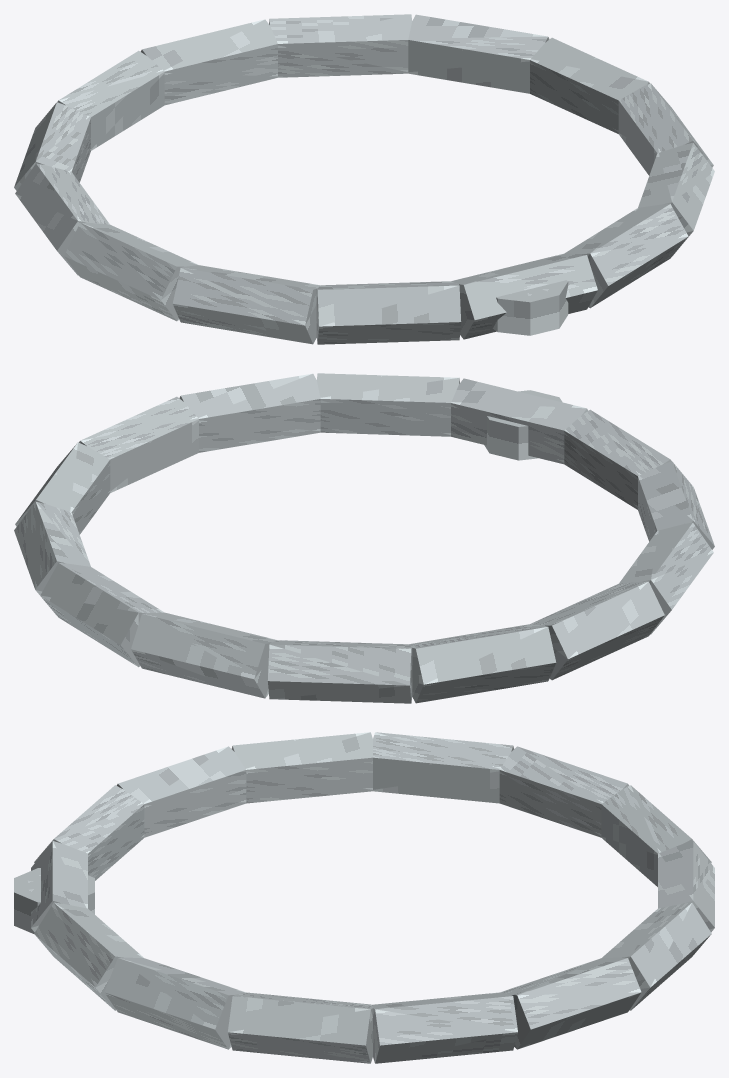
The model's file is silver_anklet.glb.
The picture shows the model from 3 angles, top to bottom: view 1: azimuth 30°, elevation 25°; view 2: azimuth 150°, elevation 25°; view 3: azimuth 270°, elevation 25°; orthographic projection.
Parts seen in each view (by area): view 1: block_bracelet band4, block_bracelet band5, block_bracelet band11, block_bracelet band12, block_bracelet band10, block_bracelet band6, block_bracelet band13, block_bracelet band2, block_bracelet band3, block_bracelet band9, block_bracelet band7, block_bracelet band1 (+3 smaller); view 2: block_bracelet band9, block_bracelet band8, block_bracelet band10, block_bracelet band2, block_bracelet band1, block_bracelet band7, block_bracelet band0, block_bracelet band11, block_bracelet band3, block_bracelet band4, block_bracelet band6, block_bracelet band12 (+3 smaller); view 3: block_bracelet band0, block_bracelet band13, block_bracelet band6, block_bracelet band7, block_bracelet band1, block_bracelet band12, block_bracelet band8, block_bracelet band5, block_bracelet band11, block_bracelet band2, block_bracelet band9, block_bracelet band4 (+3 smaller).
Boxes of the visible parts, x1,y1,x2,y2 form: block_bracelet band4: (316,281,461,344); block_bracelet band5: (172,265,320,344); block_bracelet band11: (269,14,411,77); block_bracelet band12: (408,14,549,93); block_bracelet band10: (140,19,277,105); block_bracelet band6: (64,222,198,321); block_bracelet band13: (530,37,649,133); block_bracelet band2: (564,204,688,308); block_bracelet band3: (451,253,597,339); block_bracelet band9: (57,50,164,150); block_bracelet band7: (15,163,109,275); block_bracelet band1: (638,143,714,255); block_bracelet band9: (267,640,412,703); block_bracelet band8: (408,624,556,703); block_bracelet band10: (131,612,277,698); block_bracelet band2: (317,373,459,436); block_bracelet band1: (179,373,320,452); block_bracelet band7: (530,581,664,680); block_bracelet band0: (79,396,198,492); block_bracelet band11: (40,563,164,667); block_bracelet band3: (451,378,588,464); block_bracelet band4: (564,409,671,509); block_bracelet band6: (619,522,713,634); block_bracelet band12: (14,502,90,614); block_bracelet band0: (227,992,372,1063); block_bracelet band13: (373,992,517,1063); block_bracelet band6: (231,732,372,803); block_bracelet band7: (373,732,513,803); block_bracelet band1: (104,957,245,1049); block_bracelet band12: (500,957,641,1049); block_bracelet band8: (499,746,629,837); block_bracelet band5: (116,746,246,837); block_bracelet band11: (601,902,711,1010); block_bracelet band2: (34,902,143,1010); block_bracelet band9: (601,785,711,886); block_bracelet band4: (34,785,144,880).
Bounding box in the file's own units: 0.0429 × 0.00369 × 0.0431.
Materials: 1 (1 with a texture image).
